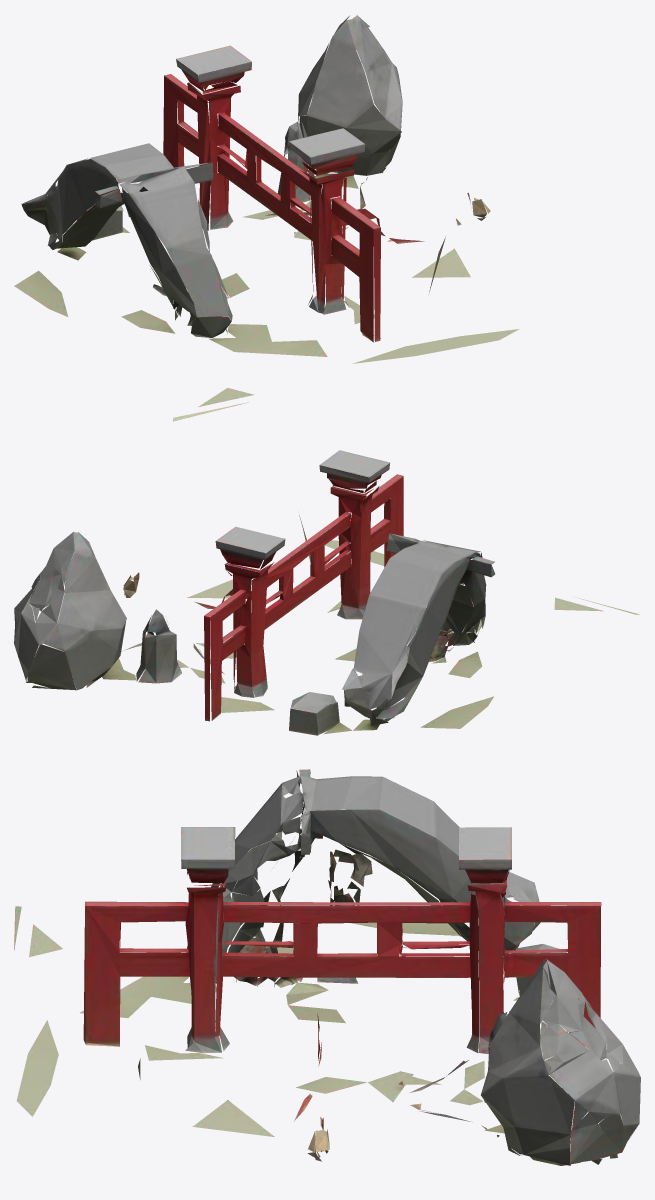
The model's file is torii.glb.
The picture shows the model from 3 angles, top to bottom: view 1: azimuth 30°, elevation 25°; view 2: azimuth 150°, elevation 25°; view 3: azimuth 270°, elevation 25°; orthographic projection. The views are drawn at different scales.
Parts seen in each view (by area): view 1: geometry_0; view 2: geometry_0; view 3: geometry_0.
Part boxes in pixels (<box>): geometry_0: <box>14,15,519,421</box>; geometry_0: <box>14,450,639,735</box>; geometry_0: <box>14,769,640,1165</box>.
Size of the model in its own units: 1 by 0.3399 by 0.9412.
Materials: 1 (1 with a texture image).
